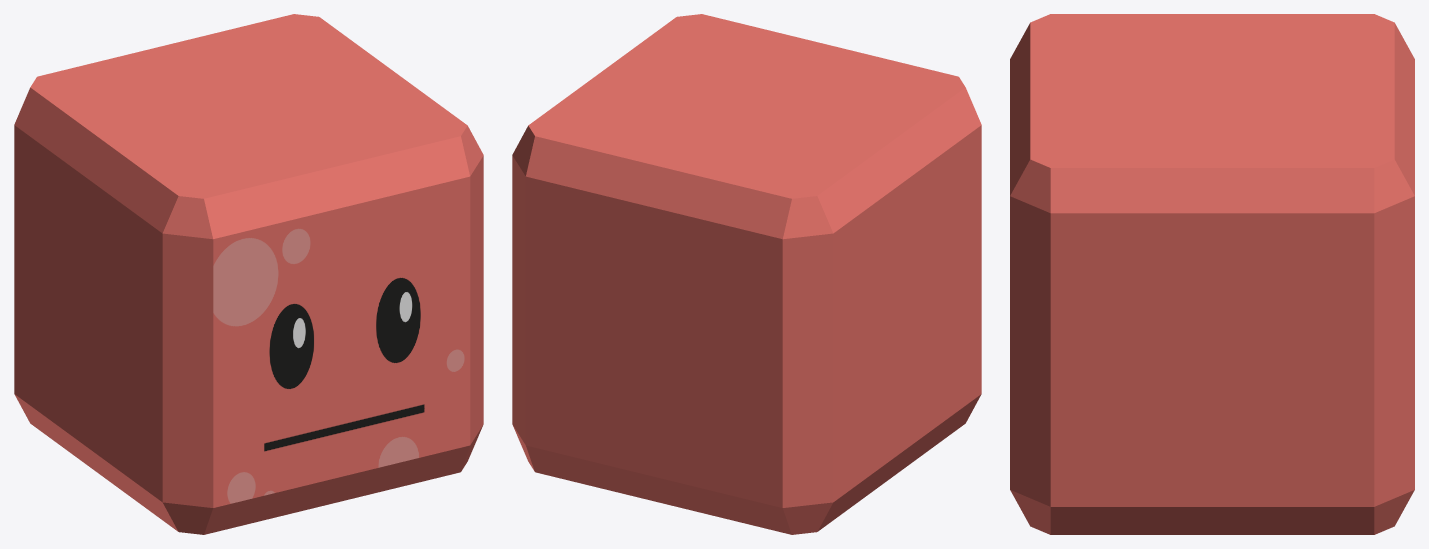
Rendered from boxred.fbx.
3 renders of one model, left to right at view 1: azimuth 30°, elevation 25°; view 2: azimuth 150°, elevation 25°; view 3: azimuth 270°, elevation 25°, orthographic. The views are drawn at different scales.
Parts seen in each view (by area): view 1: Model; view 2: Model; view 3: Model.
Part boxes in pixels (x1=…): Model: x1=14, y1=14, x2=483, y2=534; Model: x1=512, y1=14, x2=981, y2=534; Model: x1=1010, y1=14, x2=1414, y2=534.
Size of the model in its own units: 100 by 100 by 100.
